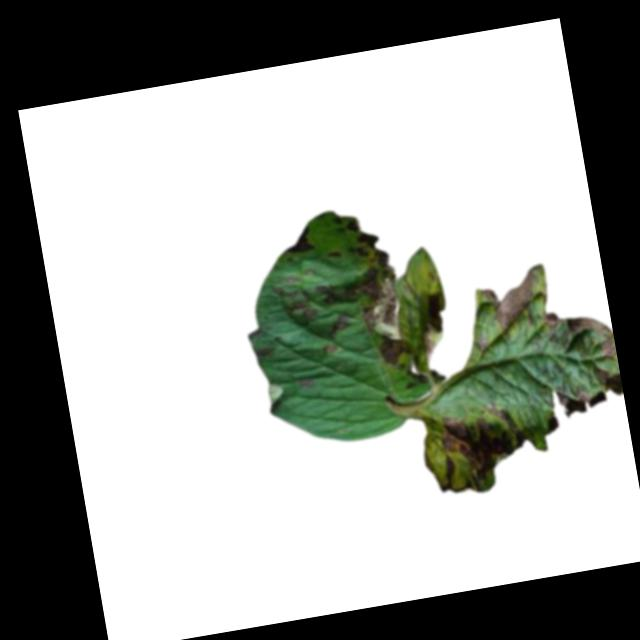Early_blight: (415, 397, 534, 501), (356, 261, 414, 370), (543, 300, 616, 368), (480, 269, 543, 338), (350, 214, 393, 268), (554, 381, 595, 418), (423, 287, 449, 336), (281, 226, 314, 254), (293, 295, 318, 322), (330, 312, 352, 331)
